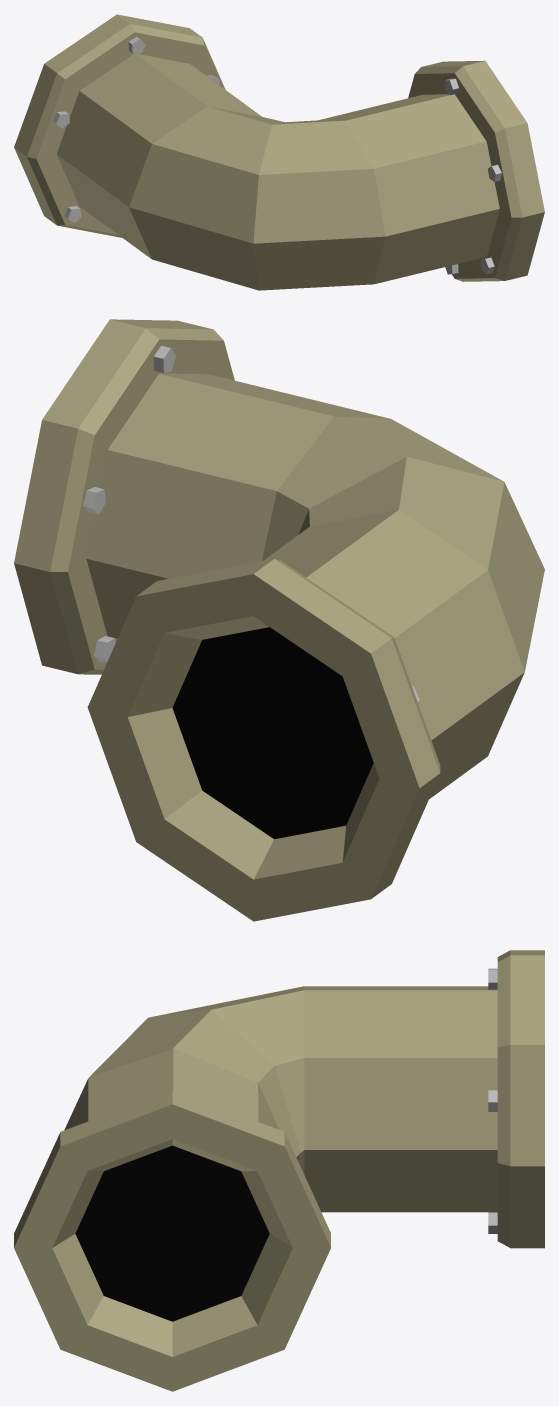
The model's file is CurvedPipe.fbx.
3 views of the same model, one above another, from view 1: azimuth 30°, elevation 25°; view 2: azimuth 150°, elevation 25°; view 3: azimuth 270°, elevation 25° (orthographic). The views are drawn at different scales.
Visible parts, largest first — view 1: ShortCurvedPipe; view 2: ShortCurvedPipe; view 3: ShortCurvedPipe.
Part boxes in pixels (x1,y1,x2,y2): ShortCurvedPipe: (14,14,544,290); ShortCurvedPipe: (14,319,544,921); ShortCurvedPipe: (14,950,544,1391).
Bounding box in the file's own units: 425 × 264 × 442.
